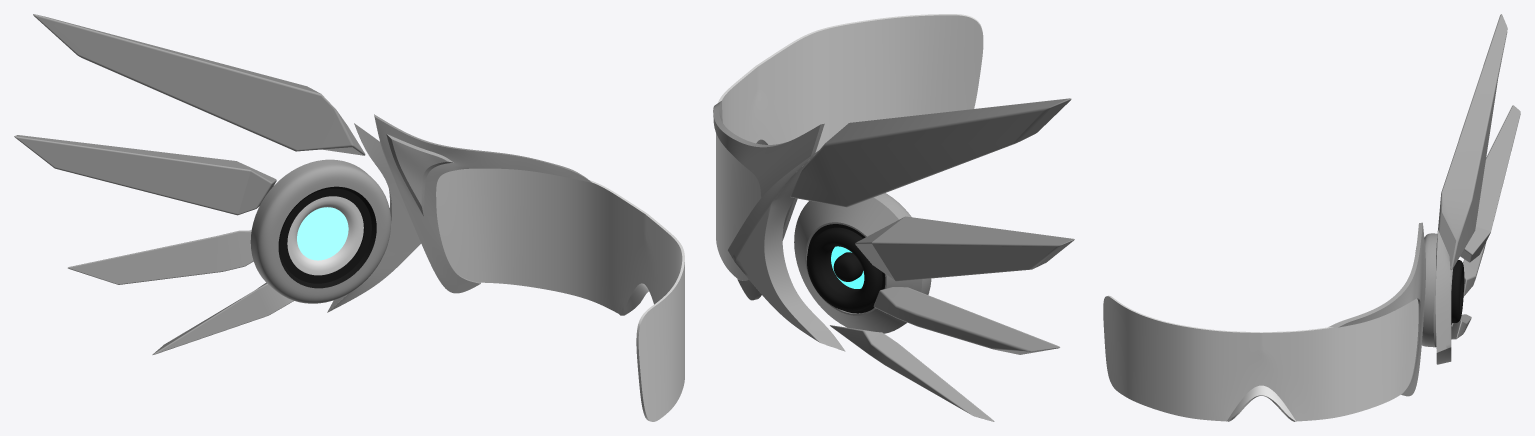
The model's file is Glasses_4.4.3.fbx.
The picture shows the model from 3 angles, left to right: view 1: azimuth 30°, elevation 25°; view 2: azimuth 150°, elevation 25°; view 3: azimuth 270°, elevation 25°; orthographic projection. The views are drawn at different scales.
Visible parts, largest first — view 1: Plane, Cylinder, Cube.004, Cube, Plane.002, Cube.003, Cube.005, Cube.001; view 2: Plane, Cube.004, Cylinder, Cube, Cube.005, Cube.003, Plane.002, Cube.001; view 3: Plane, Cube.004, Cube, Plane.002, Cylinder, Cube.005, Cube.003.
Boxes of the visible parts, bbox=[...] form: Plane: bbox=[436, 168, 684, 421]; Cylinder: bbox=[250, 159, 391, 303]; Cube.004: bbox=[33, 14, 365, 155]; Cube: bbox=[14, 135, 276, 215]; Plane.002: bbox=[374, 114, 592, 293]; Cube.003: bbox=[68, 230, 253, 284]; Cube.005: bbox=[327, 123, 420, 312]; Cube.001: bbox=[152, 282, 293, 354]; Plane: bbox=[716, 14, 983, 280]; Cube.004: bbox=[790, 98, 1071, 207]; Cylinder: bbox=[794, 193, 931, 333]; Cube: bbox=[855, 216, 1074, 281]; Cube.005: bbox=[727, 151, 845, 351]; Cube.003: bbox=[873, 287, 1059, 354]; Plane.002: bbox=[713, 101, 824, 300]; Cube.001: bbox=[830, 325, 994, 421]; Plane: bbox=[1103, 295, 1418, 421]; Cube.004: bbox=[1438, 14, 1507, 269]; Cube: bbox=[1460, 105, 1520, 262]; Plane.002: bbox=[1328, 222, 1425, 396]; Cylinder: bbox=[1421, 233, 1464, 347]; Cube.005: bbox=[1435, 230, 1451, 364]; Cube.003: bbox=[1463, 242, 1486, 296].
Bounding box in the file's own units: 20.37 × 14.2 × 20.28.
